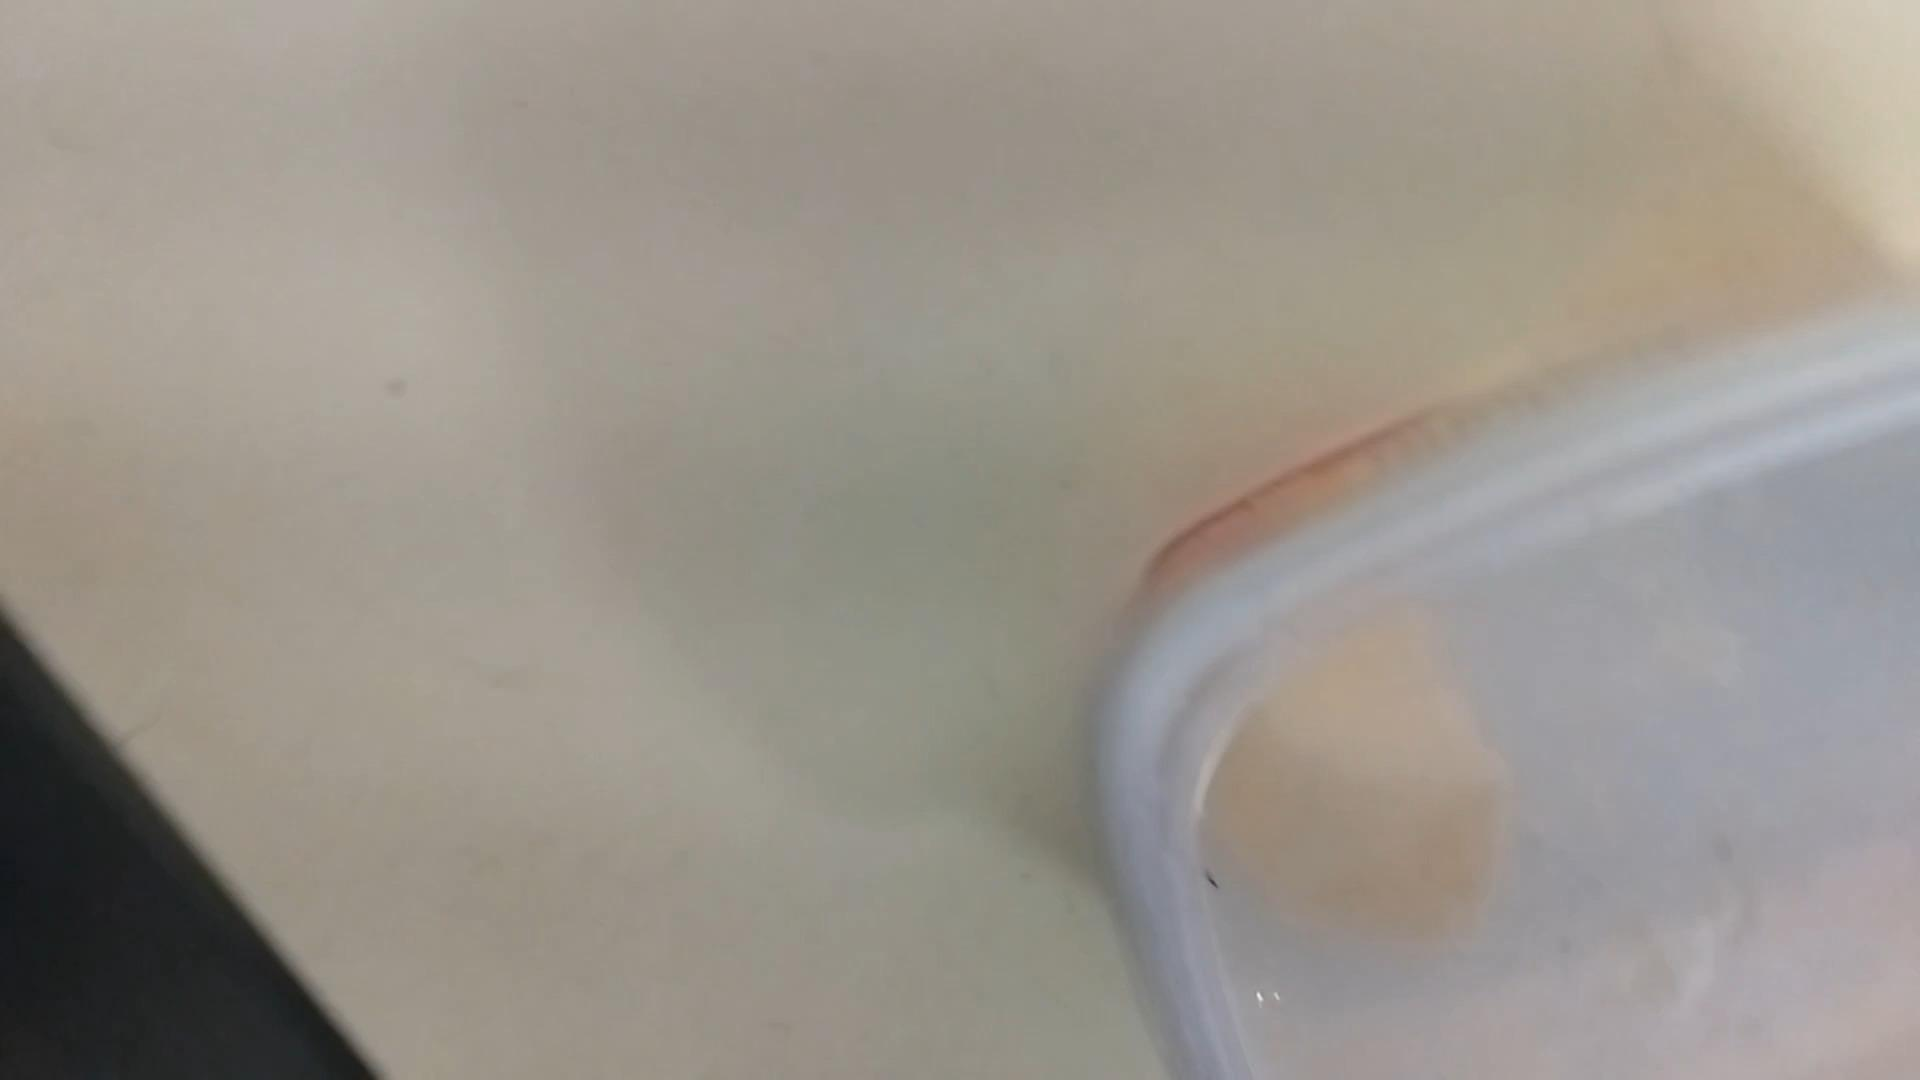butter: (1087, 286, 1915, 1077)
